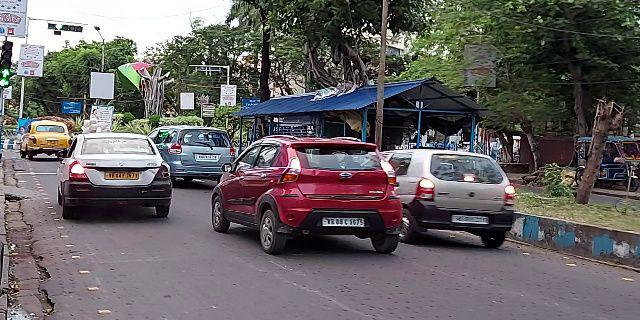Car: (202, 125, 404, 266), (383, 146, 523, 251), (54, 128, 178, 227), (156, 121, 236, 185), (17, 115, 71, 160)
